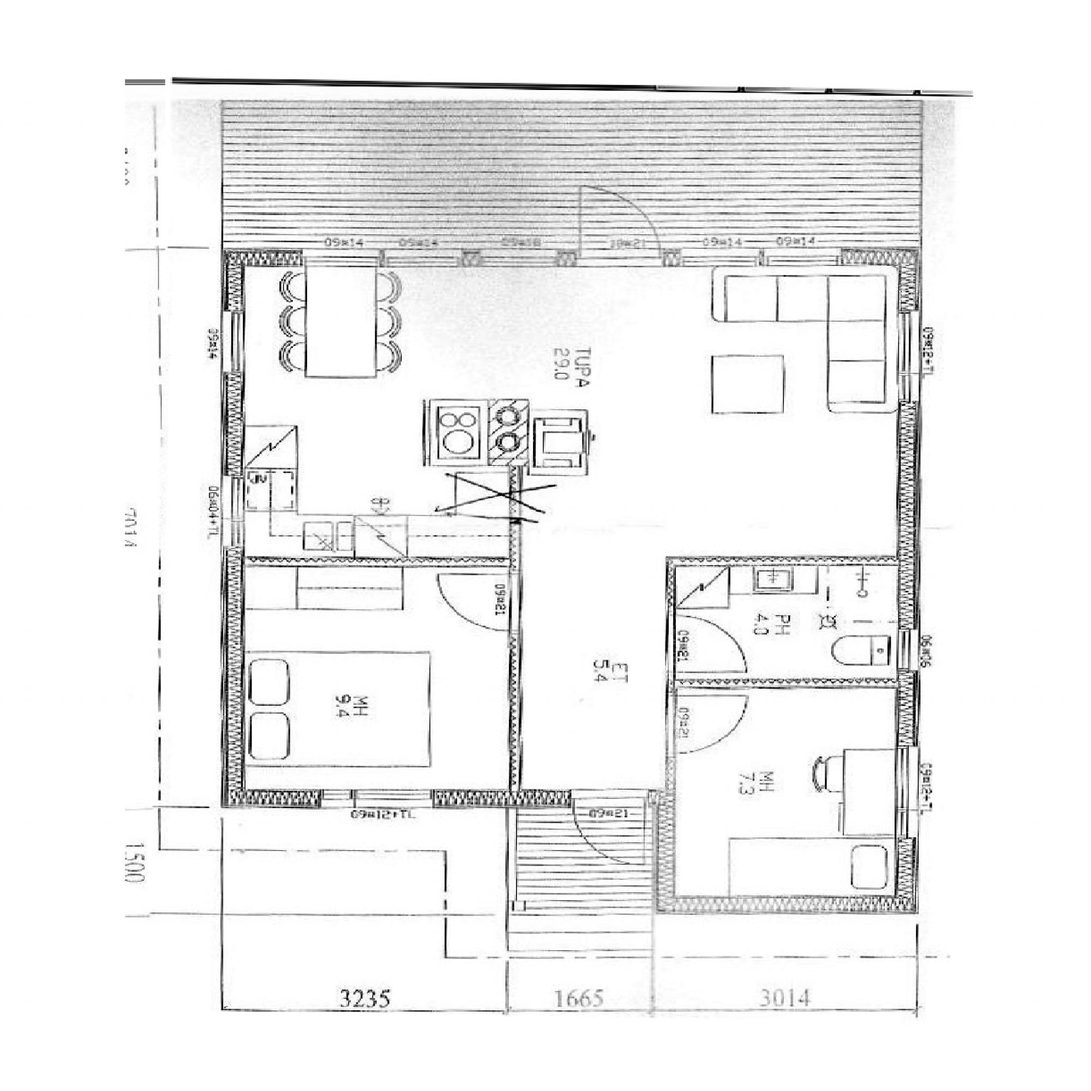wall: (899, 248, 921, 914), (221, 249, 921, 266), (221, 248, 242, 808), (221, 791, 675, 808), (655, 898, 921, 914), (509, 515, 519, 808), (221, 557, 519, 566), (665, 557, 675, 808), (655, 791, 675, 914), (665, 557, 921, 566), (665, 679, 921, 688)
